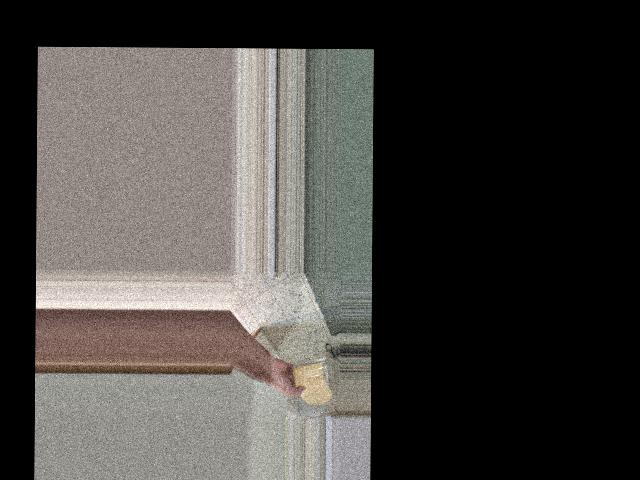cheese: (290, 358, 335, 407)
